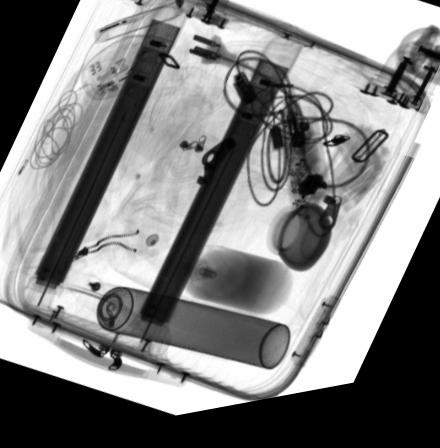Sprayer: (72, 285, 289, 379)
